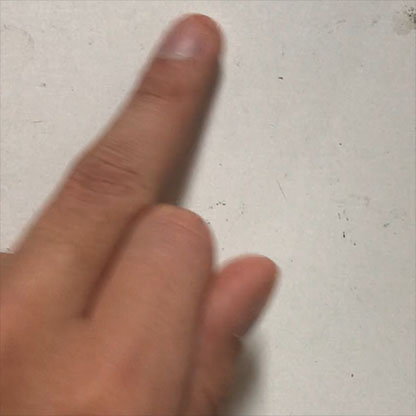fingertip: (152, 3, 230, 80)
